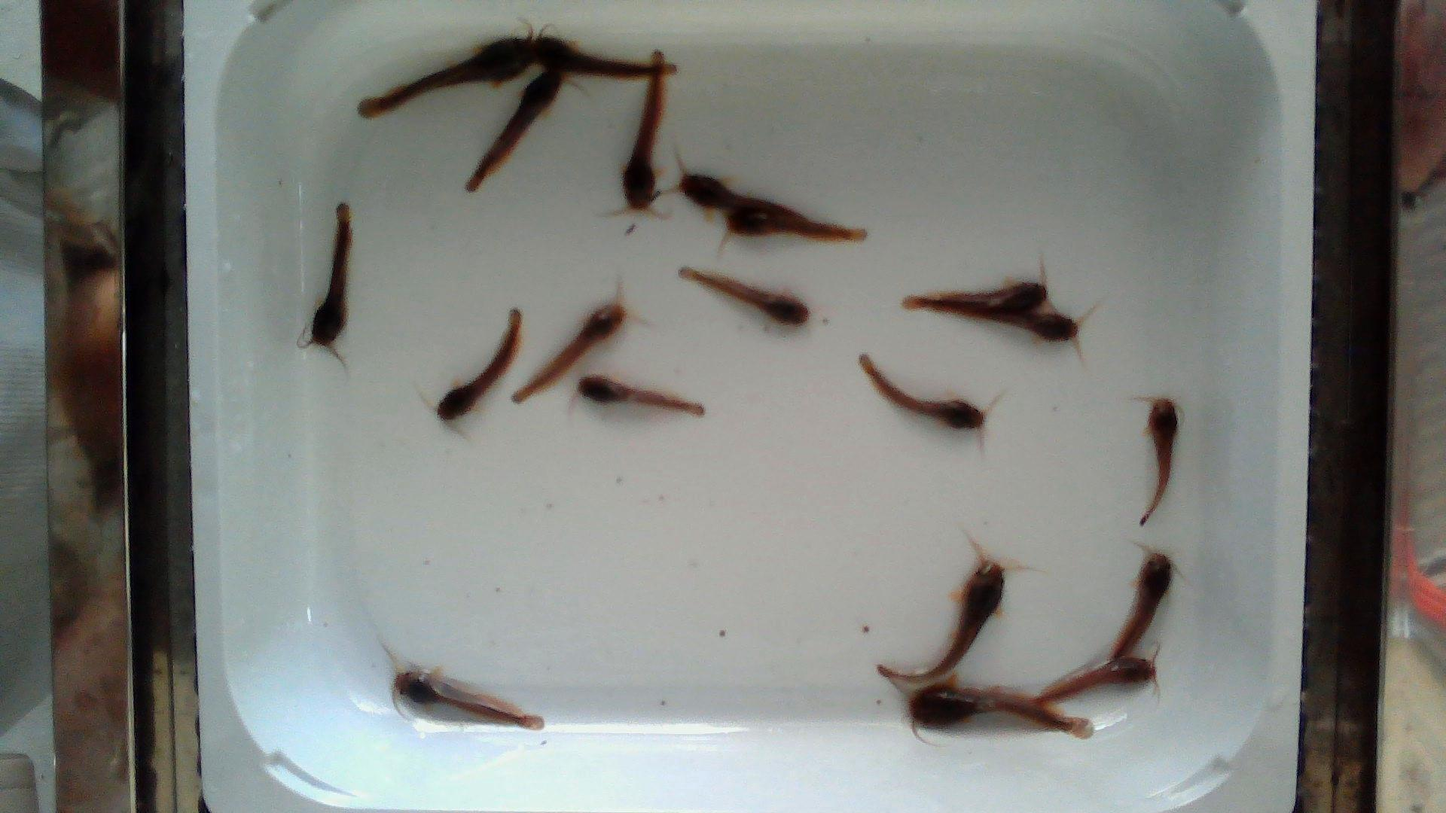lele: (879, 560, 1005, 683), (356, 39, 536, 120), (513, 293, 626, 402), (466, 69, 565, 191), (909, 684, 1096, 742), (437, 309, 521, 420), (859, 355, 984, 428), (395, 669, 544, 729), (622, 52, 675, 209), (680, 267, 808, 325), (1106, 553, 1170, 663), (677, 171, 810, 220), (925, 305, 1079, 344), (311, 203, 352, 347), (530, 37, 672, 77), (1037, 659, 1159, 703), (900, 283, 1048, 316), (578, 376, 703, 415), (1140, 398, 1177, 525), (728, 208, 867, 241)
